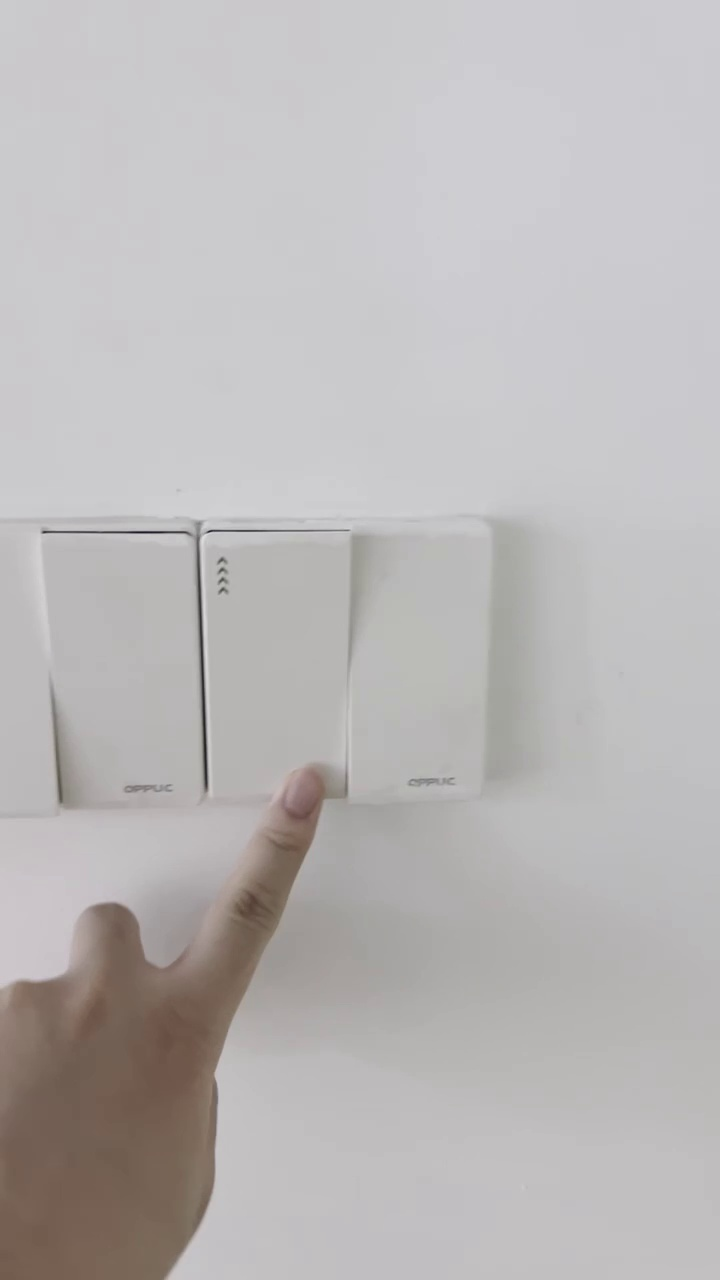button1: (52, 535, 203, 800), (352, 530, 485, 802), (209, 532, 343, 799)
